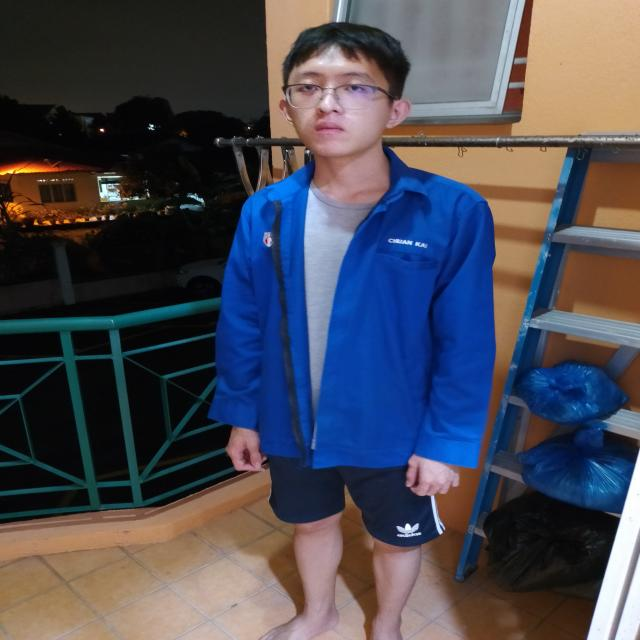person_with_labcoat: (209, 24, 495, 640)
